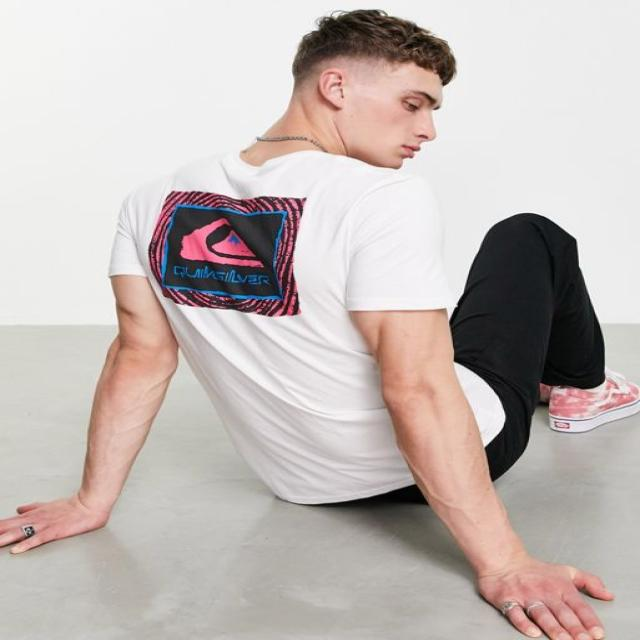tshirt: (106, 147, 508, 506)
